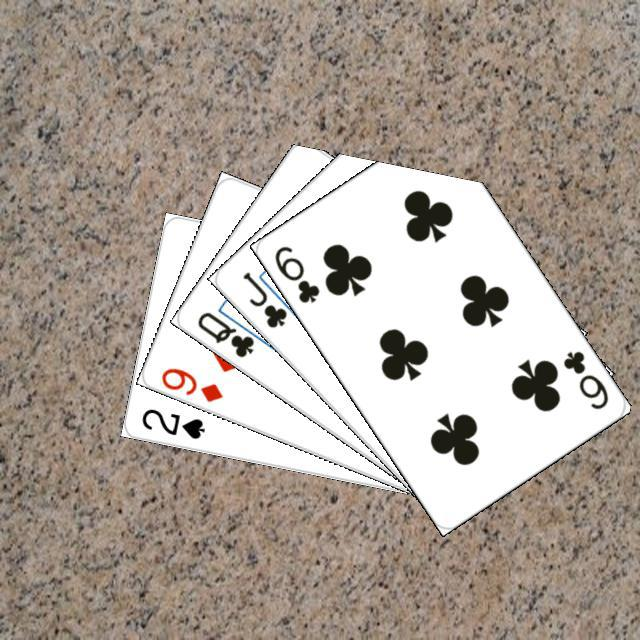2s: (136, 403, 207, 441)
6c: (558, 346, 611, 412), (269, 240, 322, 305)
9d: (156, 362, 225, 404)
Jc: (237, 267, 289, 330)
Qc: (192, 301, 269, 360)
